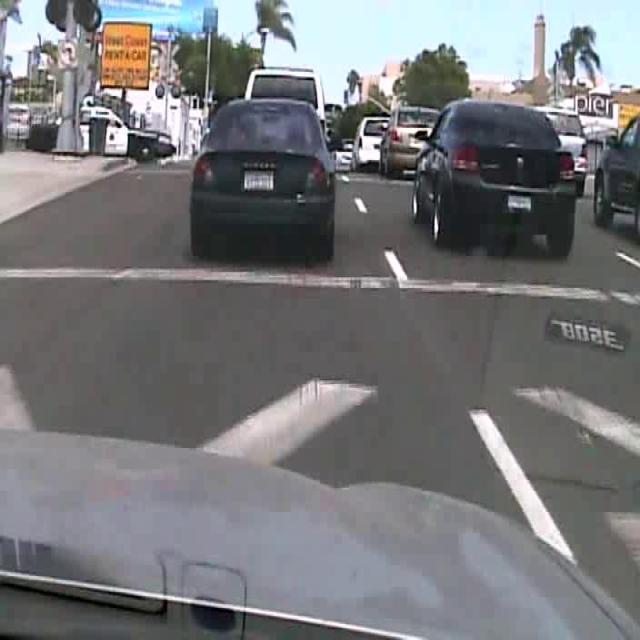noLeftTurn: (56, 39, 78, 68)
